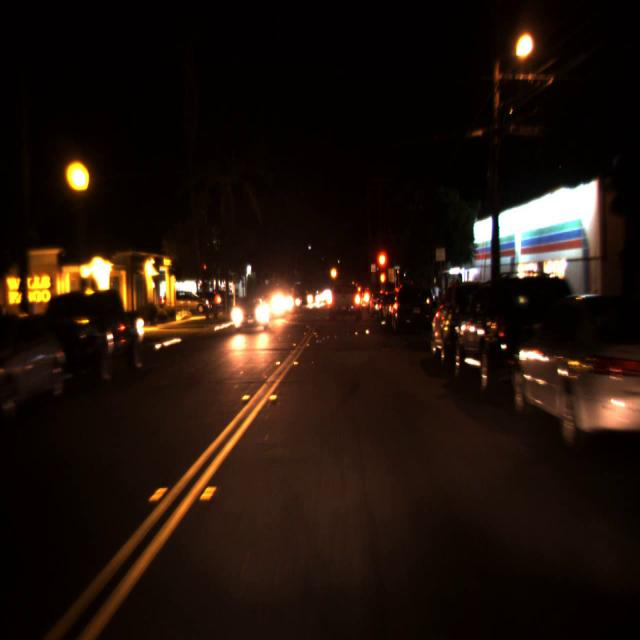stop: (374, 248, 390, 291)
stop traffic light: (374, 248, 390, 291)
warning: (329, 259, 339, 286)
warning traffic light: (329, 259, 339, 286)
